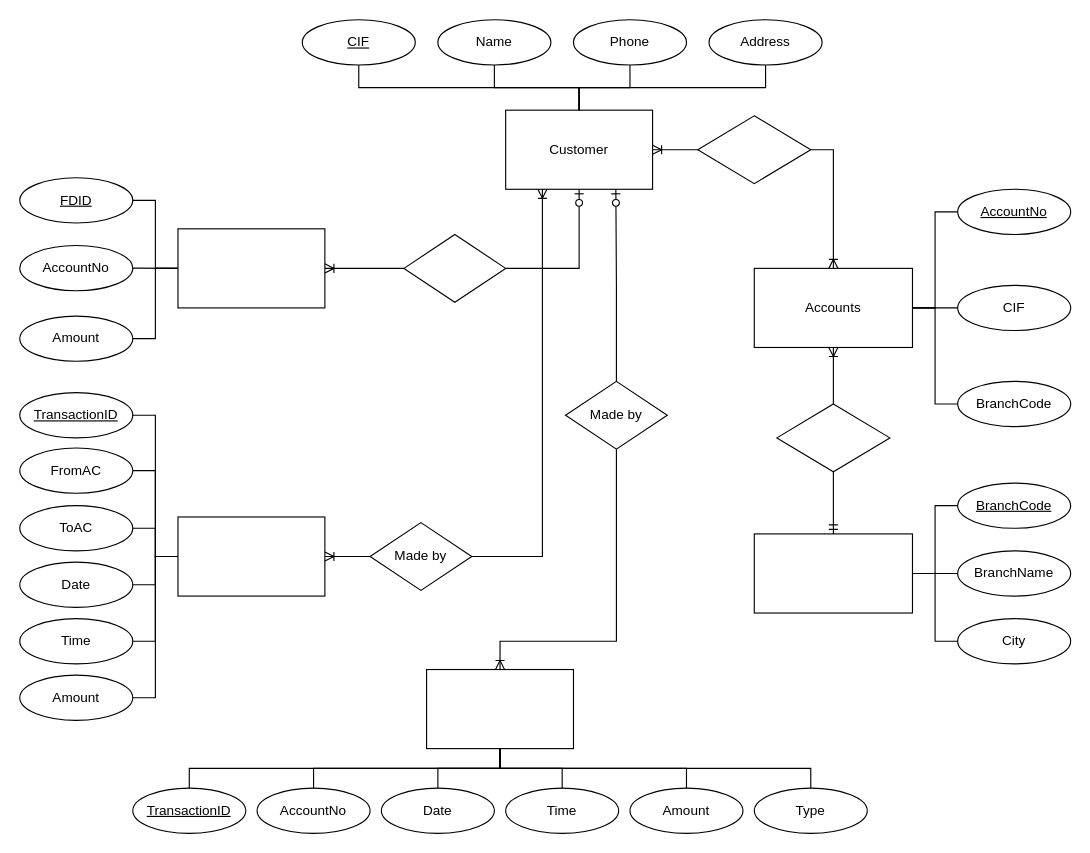
The diagram is 1090 pixels wide and 853 high, and some of its shapes have lost their labels. The shapes that lost their labels are listed below. From the top down, each one's centre as x and y in pixels, then its label:
At (754,149): "Creates".
At (251,268): "FixedDeposits".
At (454,267): "Created by".
At (833,437): "Hosted by".
At (251,556): "TransferTransactions".
At (832,573): "Branch".
At (499,708): "ATMTransactions".
